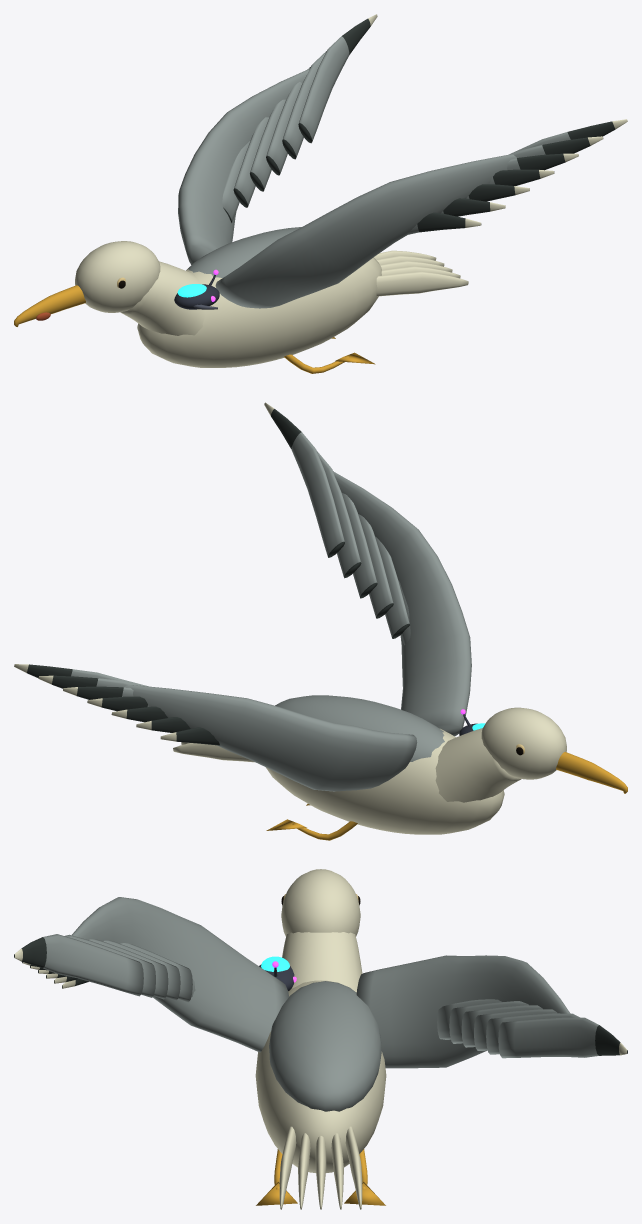
Rendered from controlled_gull.glb.
The picture shows the model from 3 angles, top to bottom: view 1: azimuth 30°, elevation 25°; view 2: azimuth 150°, elevation 25°; view 3: azimuth 270°, elevation 25°; orthographic projection. The views are drawn at different scales.
Visible parts, largest first — view 1: WingCoverts, Body, WingCoverts.001, Head, Neck, FlightFeather_06.001, Back, TailFeather_0, FlightFeather_05.001, NaturalBeak, FlightFeather_04.001, FlightFeather_03.001 (+10 smaller); view 2: WingCoverts.001, WingCoverts, Body, Head, Back, Neck, FlightFeather_06, FlightFeather_05, FlightFeather_04, FlightFeather_03, FlightFeather_02, NaturalBeak (+7 smaller); view 3: WingCoverts, WingCoverts.001, Back, Body, FlightFeather_06.001, FlightFeather_06, Head, Neck, FlightFeather_05.001, FlightFeather_03.001, FlightFeather_04.001, FlightFeather_02.001 (+10 smaller).
Boxes of the visible parts, bbox=[...] form: WingCoverts: bbox=[215, 154, 516, 308]; Body: bbox=[137, 257, 381, 367]; WingCoverts.001: bbox=[178, 69, 309, 264]; Head: bbox=[75, 241, 160, 312]; Neck: bbox=[120, 261, 206, 335]; FlightFeather_06.001: bbox=[298, 14, 377, 143]; Back: bbox=[187, 227, 301, 277]; TailFeather_0: bbox=[376, 271, 468, 296]; FlightFeather_05.001: bbox=[282, 51, 326, 159]; NaturalBeak: bbox=[14, 285, 85, 326]; FlightFeather_04.001: bbox=[266, 67, 310, 175]; FlightFeather_03.001: bbox=[250, 99, 285, 191]; WingCoverts.001: bbox=[124, 685, 417, 791]; WingCoverts: bbox=[333, 471, 471, 736]; Body: bbox=[266, 728, 504, 834]; Head: bbox=[481, 707, 566, 779]; Back: bbox=[275, 695, 444, 761]; Neck: bbox=[435, 728, 521, 802]; FlightFeather_06: bbox=[264, 402, 344, 557]; FlightFeather_05: bbox=[317, 451, 361, 578]; FlightFeather_04: bbox=[333, 471, 377, 598]; FlightFeather_03: bbox=[358, 514, 393, 618]; FlightFeather_02: bbox=[375, 536, 409, 638]; NaturalBeak: bbox=[556, 752, 627, 793]; WingCoverts: bbox=[72, 897, 289, 1052]; WingCoverts.001: bbox=[356, 955, 570, 1068]; Back: bbox=[269, 981, 381, 1111]; Body: bbox=[255, 980, 386, 1172]; FlightFeather_06.001: bbox=[498, 1017, 627, 1058]; FlightFeather_06: bbox=[14, 934, 143, 996]; Head: bbox=[281, 869, 360, 936]; Neck: bbox=[282, 932, 362, 992]; FlightFeather_05.001: bbox=[486, 1013, 579, 1054]; FlightFeather_03.001: bbox=[461, 1005, 542, 1047]; FlightFeather_04.001: bbox=[474, 1009, 557, 1050]; FlightFeather_02.001: bbox=[449, 1001, 528, 1043].
Size of the model in its own units: 2.43 by 1.35 by 2.16.
